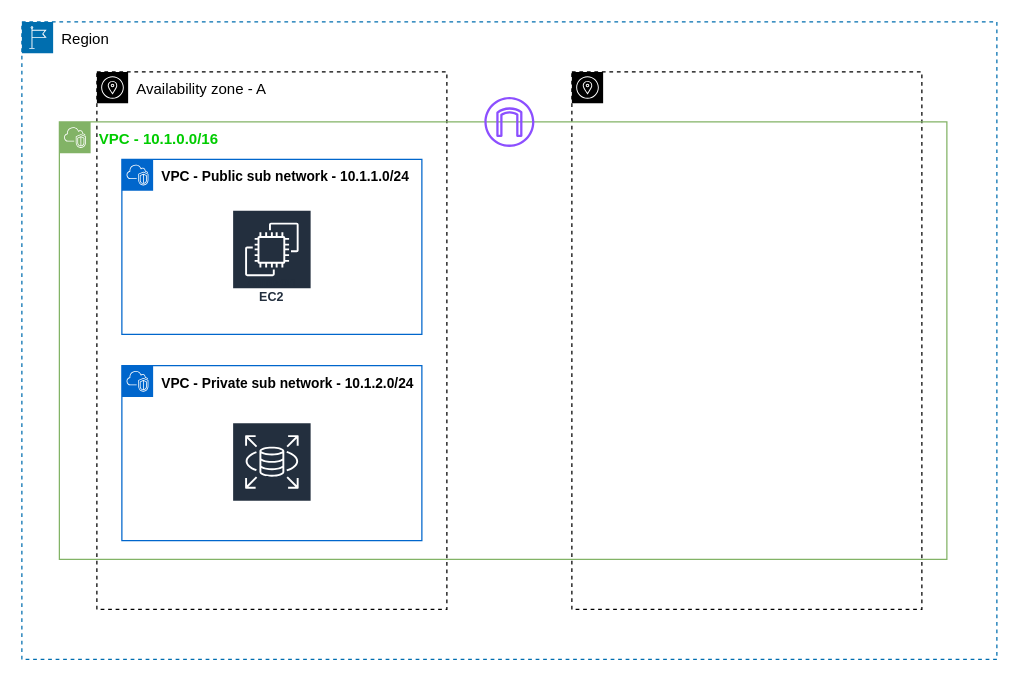
This 1019x681 diagram has some shape labels left out. The centre of each missing label's shape, as x and y in pixels:
Amazon RDS: (271,471)
Availability zone - B: (746,340)
Internet Gateway: (509,121)
